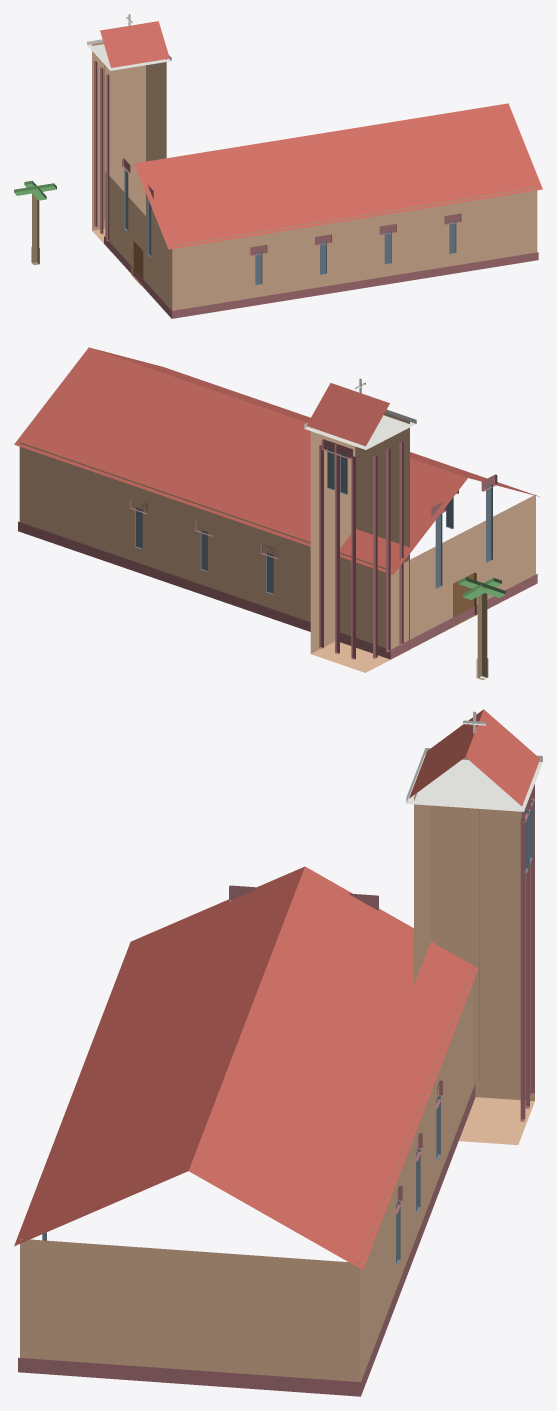
File: sav_sacredheart.glb
3 renders of one model, top to bottom at view 1: azimuth 30°, elevation 25°; view 2: azimuth 150°, elevation 25°; view 3: azimuth 270°, elevation 25°, orthographic. The views are drawn at different scales.
Parts seen in each view (by area): view 1: sav_sacredheart_lod0; view 2: sav_sacredheart_lod0; view 3: sav_sacredheart_lod0.
Boxes of the visible parts, x1,y1,x2,y2 form: sav_sacredheart_lod0: [14, 14, 542, 318]; sav_sacredheart_lod0: [14, 347, 539, 680]; sav_sacredheart_lod0: [14, 709, 542, 1396].
Size of what is drawn, in the model's own units: 39.47 by 19.6 by 23.07.
